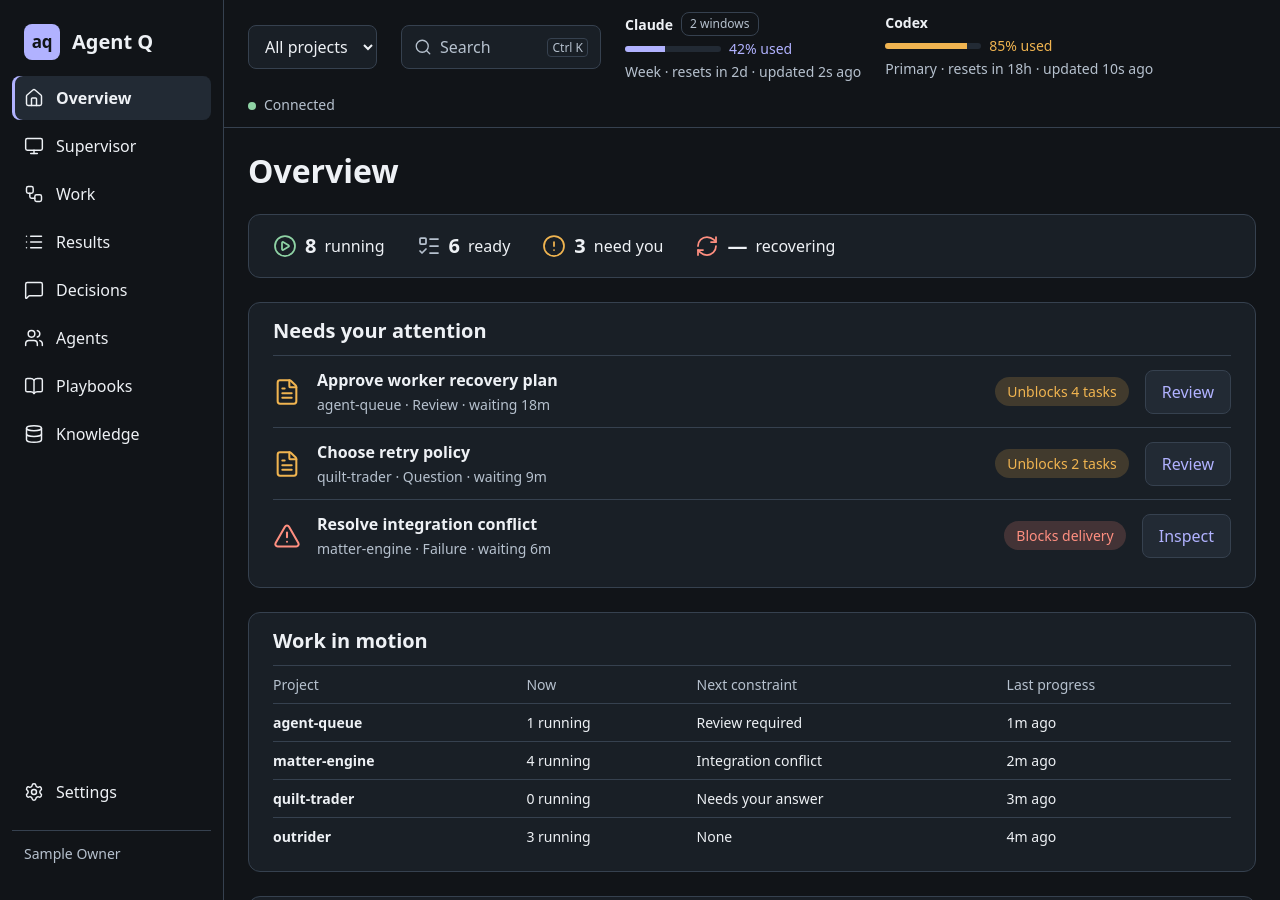
Test: a malformed search response is contained in the dialog
This screenshot has width=1280, height=900.
Click the button "Search Ctrl K" at x=501, y=47, box 401,25 -> 601,69
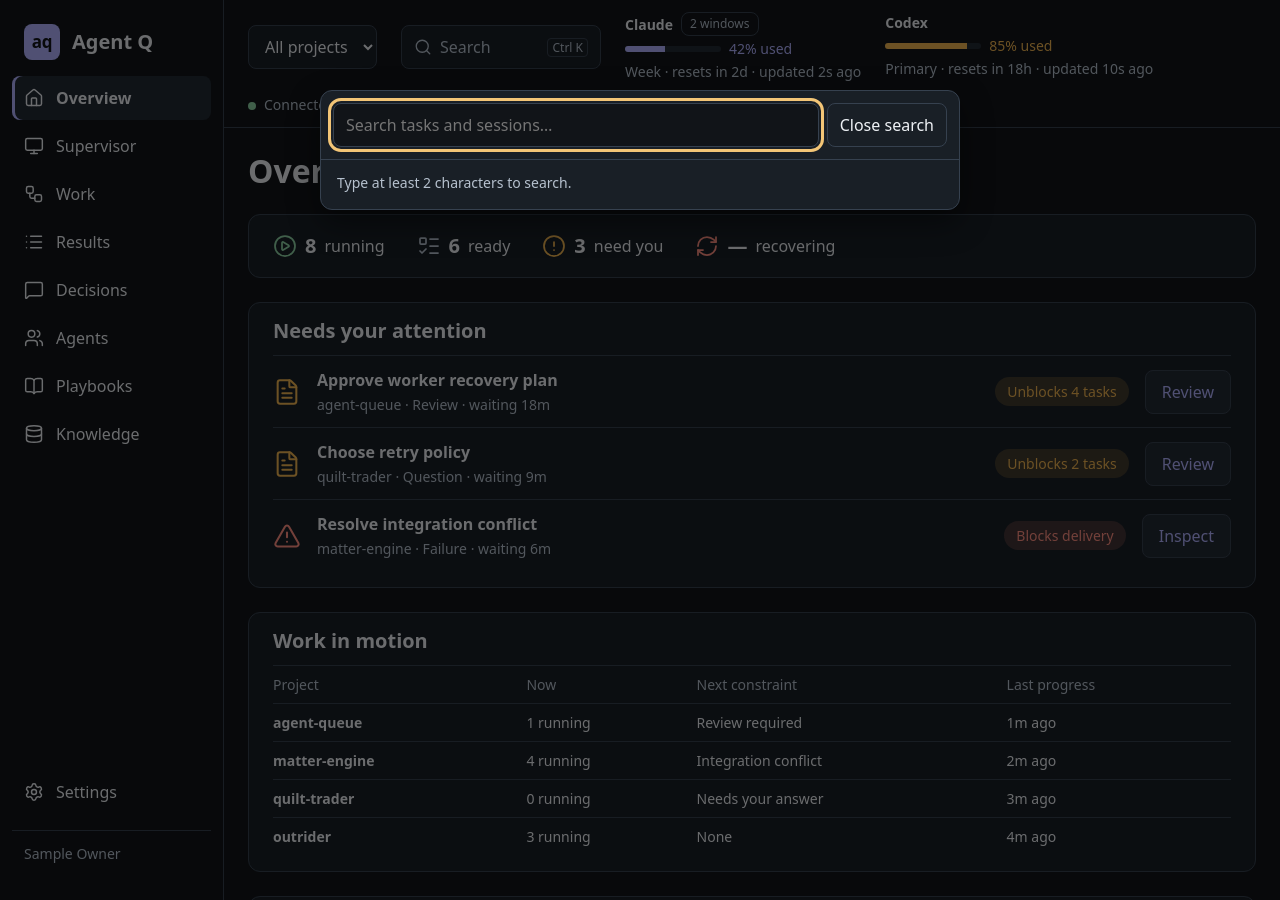
Type "recovery" into the search field at x=576, y=125, box 333,103 -> 819,147
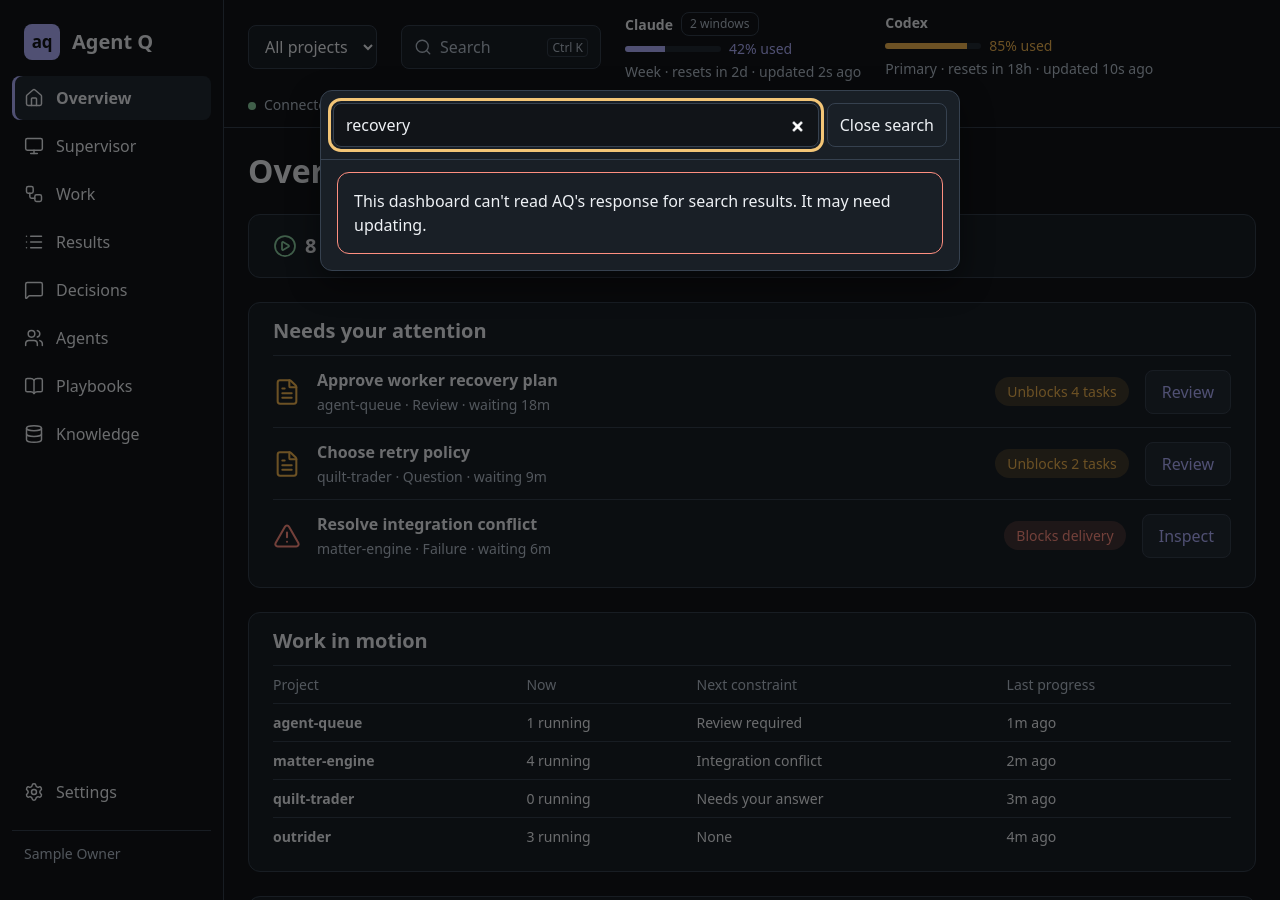
Expected: the navigation bar named "Primary" is shown, 12,76 -> 211,814
Expected: the message shows "can't read", 354,190 -> 891,236
